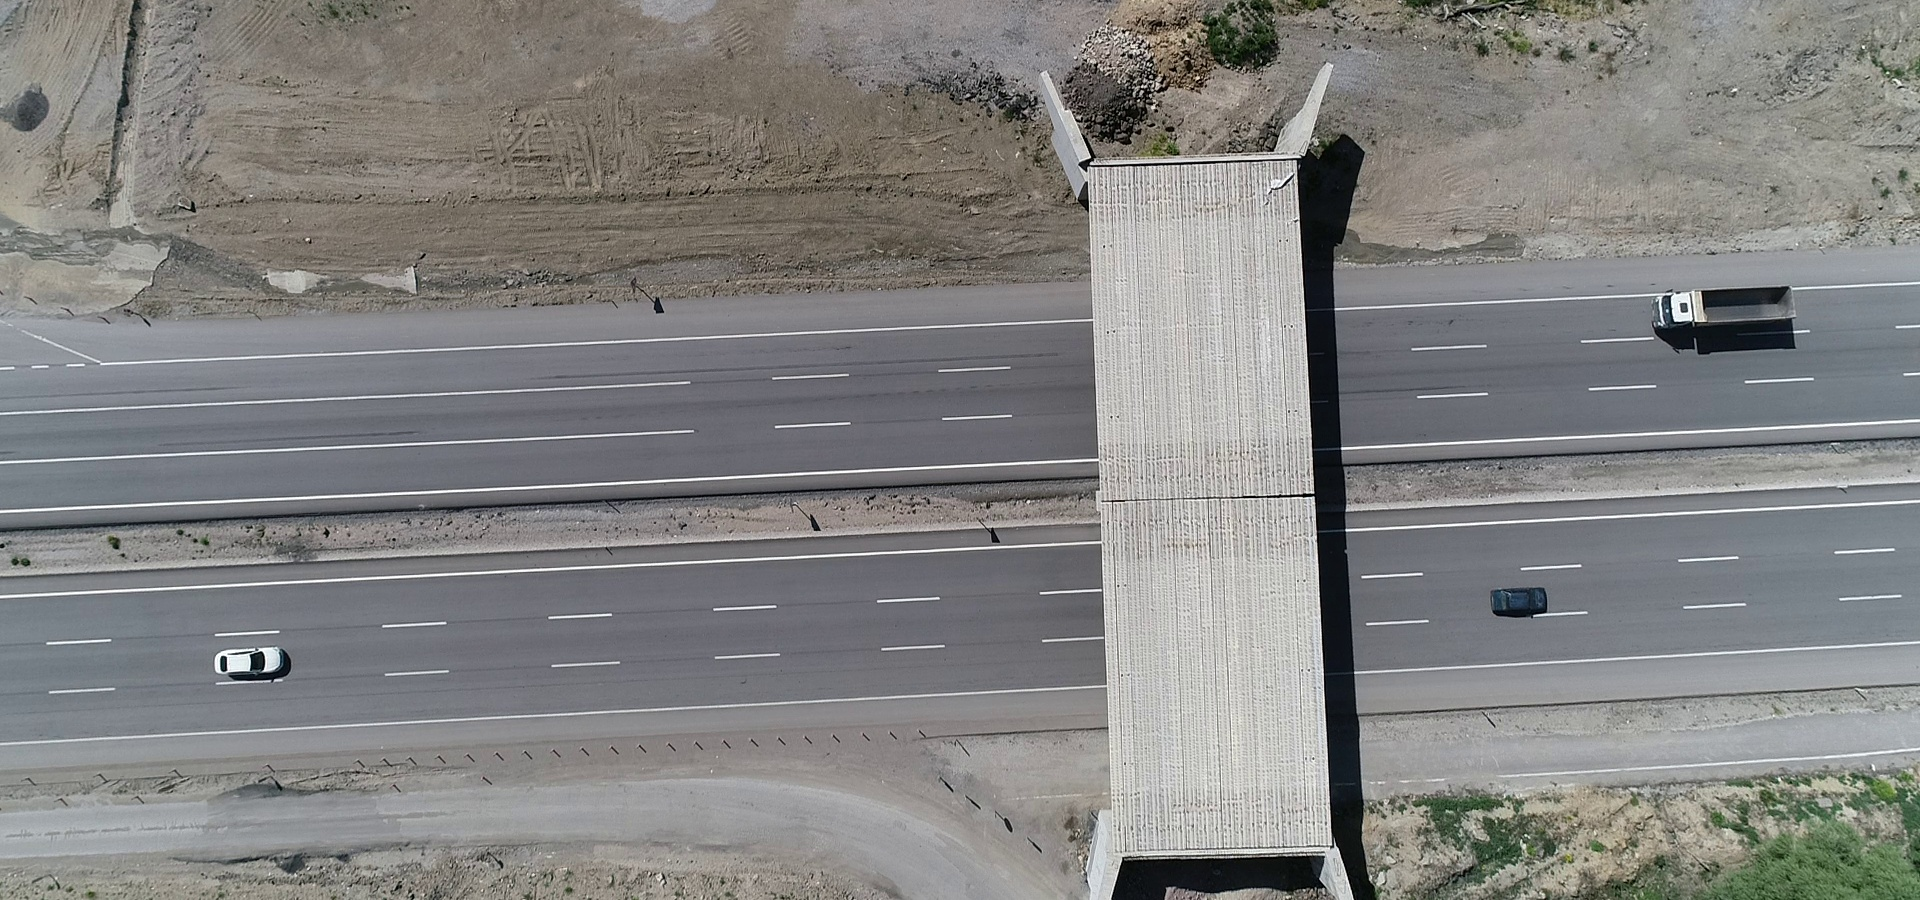araba: (206, 638, 290, 681), (1485, 583, 1555, 613)
kamyonet: (1651, 272, 1816, 340)
